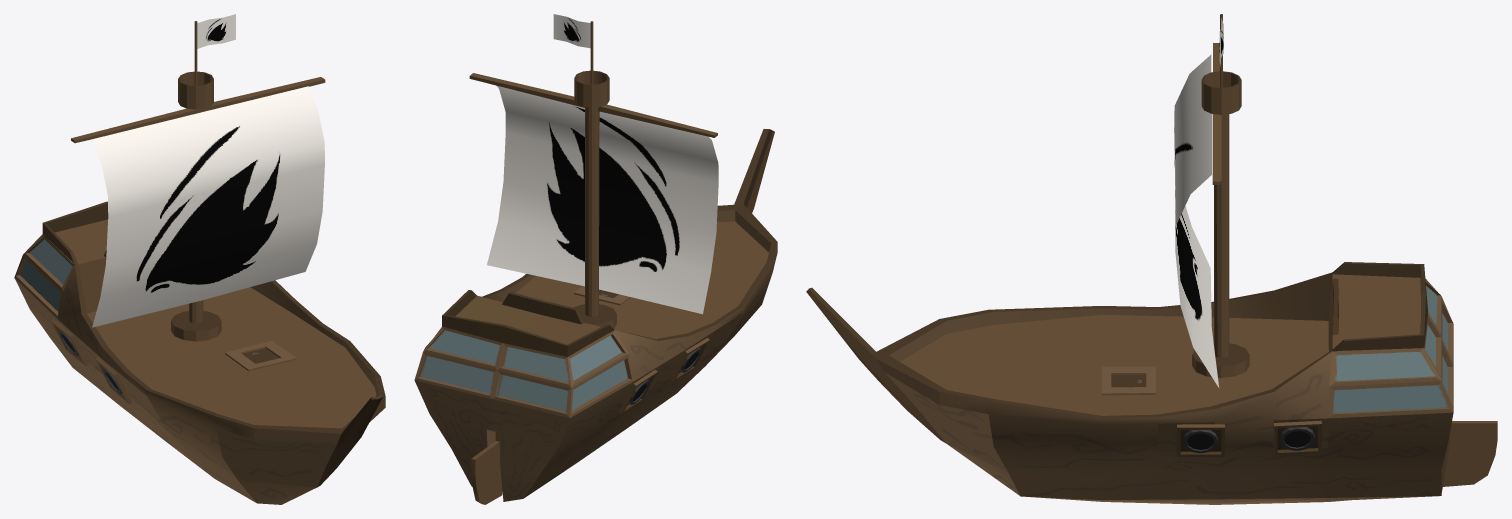
The model's file is PlayerShip_Final.fbx.
3 views of the same model, side by side, from view 1: azimuth 30°, elevation 25°; view 2: azimuth 150°, elevation 25°; view 3: azimuth 270°, elevation 25° (orthographic). The views are drawn at different scales.
Parts seen in each view (by area): view 1: pCube5, Mast_V01:pCylinder3, pCube9, pCube10; view 2: pCube5, Mast_V01:pCylinder3, pCube10, pCube9; view 3: pCube5, Mast_V01:pCylinder3, pCube8, pCube7.
Part boxes in pixels (bbox=[...]): pCube5: bbox=[14, 201, 385, 504]; Mast_V01:pCylinder3: bbox=[71, 14, 325, 341]; pCube9: bbox=[51, 319, 88, 366]; pCube10: bbox=[95, 357, 131, 404]; pCube5: bbox=[414, 129, 777, 504]; Mast_V01:pCylinder3: bbox=[469, 14, 718, 328]; pCube10: bbox=[670, 337, 709, 381]; pCube9: bbox=[619, 370, 657, 414]; pCube5: bbox=[806, 262, 1497, 504]; Mast_V01:pCylinder3: bbox=[1174, 14, 1249, 388]; pCube8: bbox=[1274, 420, 1321, 455]; pCube7: bbox=[1177, 424, 1224, 456].
Size of the model in its own units: 137 by 226 by 288.
7 materials, 6 textured.
